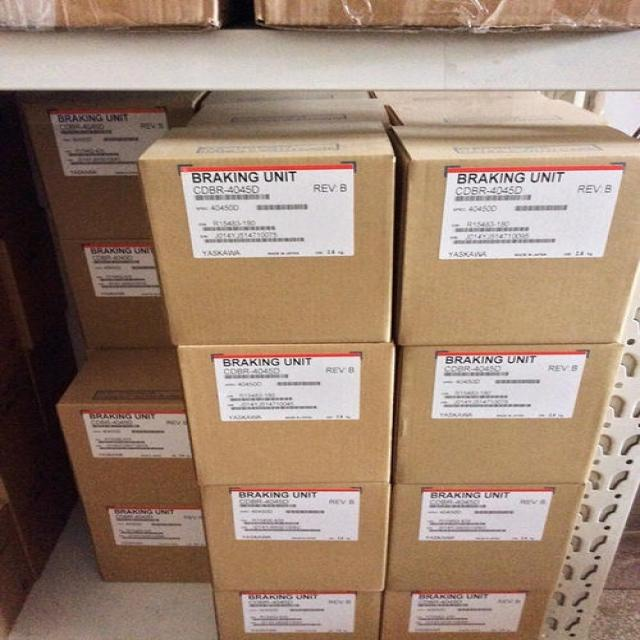box: (137, 120, 396, 344), (389, 120, 640, 346), (394, 344, 625, 484), (177, 343, 397, 485), (24, 91, 207, 238), (55, 349, 201, 501), (384, 484, 586, 590), (201, 483, 392, 592), (60, 238, 172, 349), (84, 499, 211, 584), (0, 207, 68, 351), (379, 590, 554, 639), (12, 449, 79, 574), (212, 591, 384, 639), (0, 90, 44, 238), (26, 317, 79, 427), (186, 98, 390, 126), (387, 99, 604, 125), (0, 503, 36, 640), (202, 90, 367, 101), (370, 92, 550, 102)
